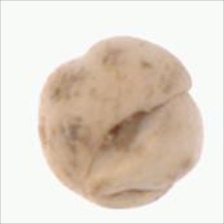L3: (96, 109, 145, 151)
L4: (37, 36, 204, 209)
